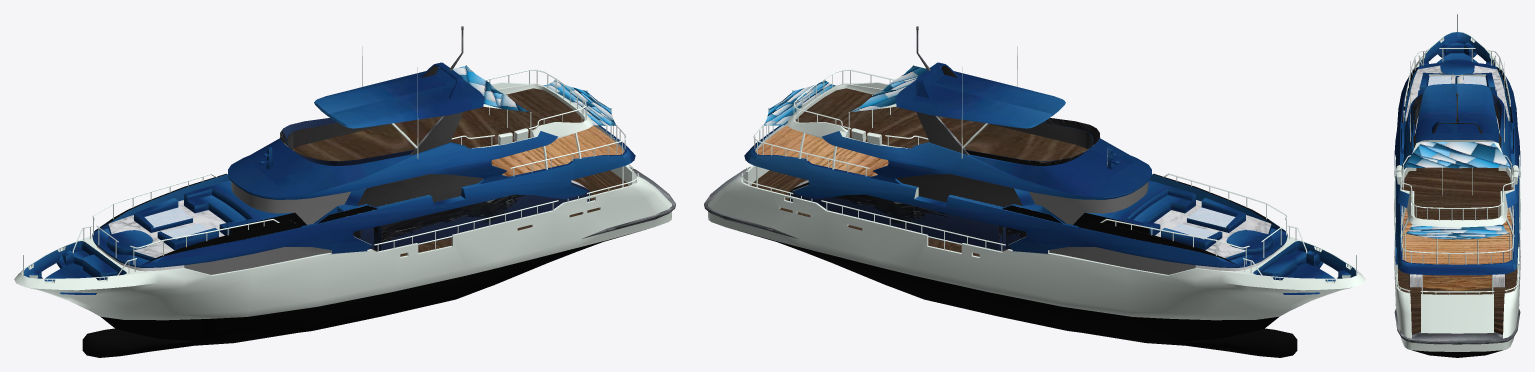
The model's file is yatch.glb.
3 views of the same model, side by side, from view 1: azimuth 30°, elevation 25°; view 2: azimuth 150°, elevation 25°; view 3: azimuth 270°, elevation 25° (orthographic). The views are drawn at different scales.
Visible parts, largest first — view 1: Object_10, Object_4, Object_6, Object_8, Object_5, Object_12, Object_7, Object_16, Object_11, Object_9, Object_13; view 2: Object_10, Object_4, Object_6, Object_8, Object_5, Object_12, Object_7, Object_16, Object_11, Object_9, Object_13; view 3: Object_10, Object_4, Object_8, Object_16, Object_7, Object_9, Object_11, Object_14, Object_6, Object_13, Object_5, Object_12.
Part boxes in pixels (x1,y1,x2,y2): Object_10: (22,62,635,294); Object_4: (14,46,671,320); Object_6: (82,173,645,357); Object_8: (292,88,629,256); Object_5: (280,118,590,250); Object_12: (286,65,483,206); Object_7: (491,125,624,176); Object_16: (452,65,615,125); Object_11: (108,180,586,257); Object_9: (410,26,675,238); Object_13: (144,207,208,239); Object_10: (744,62,1357,294); Object_4: (708,46,1365,320); Object_6: (738,173,1297,357); Object_8: (750,88,1087,256); Object_5: (789,118,1099,250); Object_12: (896,65,1093,206); Object_7: (755,125,888,176); Object_16: (764,65,926,125); Object_11: (793,180,1271,257); Object_9: (704,26,969,238); Object_13: (1171,207,1235,239); Object_10: (1394,32,1520,275); Object_4: (1394,14,1520,351); Object_8: (1394,124,1520,334); Object_16: (1404,142,1510,239); Object_7: (1402,209,1512,264); Object_9: (1394,92,1520,344); Object_11: (1404,65,1510,287); Object_14: (1423,275,1491,290); Object_6: (1401,60,1513,357); Object_13: (1428,76,1486,85); Object_5: (1409,94,1505,286); Object_12: (1413,104,1501,148).
Bounding box in the file's own units: 45.08 × 17.5 × 9.17.
Materials: 13 (10 with a texture image).
